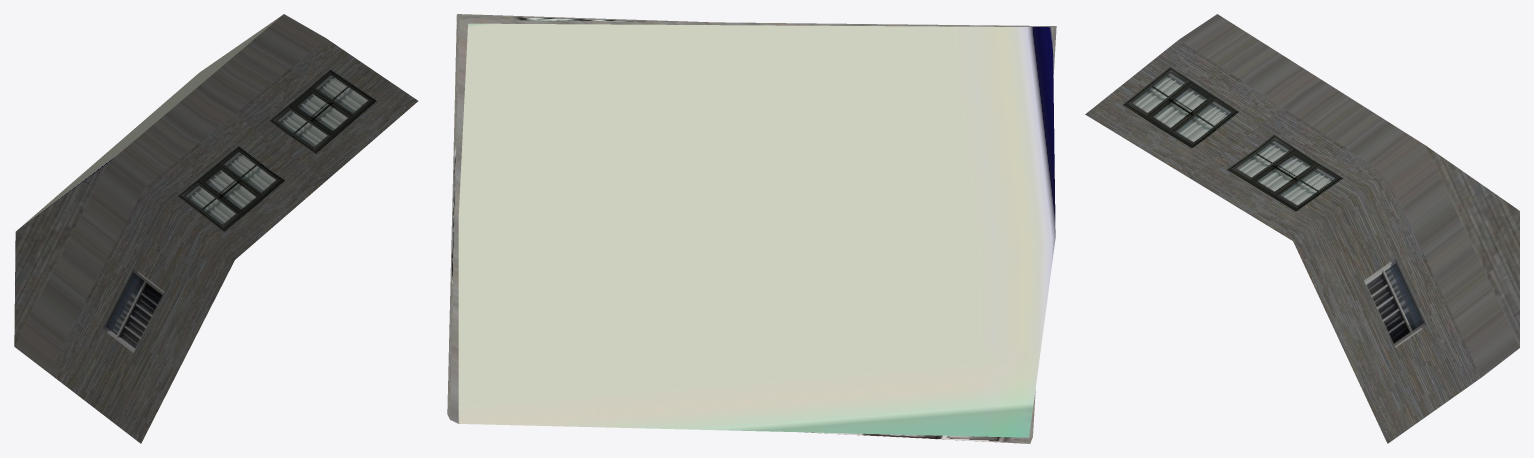
File: tile_LOD8_r6_c2.glb
3 views of the same model, side by side, from view 1: azimuth 30°, elevation 25°; view 2: azimuth 150°, elevation 25°; view 3: azimuth 270°, elevation 25° (orthographic). The views are drawn at different scales.
Size of the model in its own units: 12.5 by 8.75 by 11.5.
5 materials, 5 textured.
